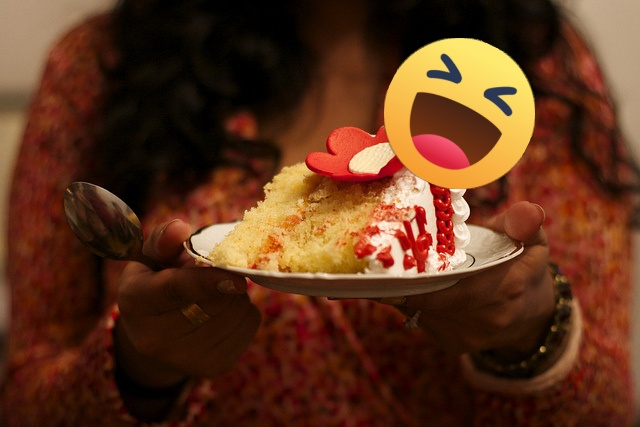haha: (384, 38, 535, 189)
